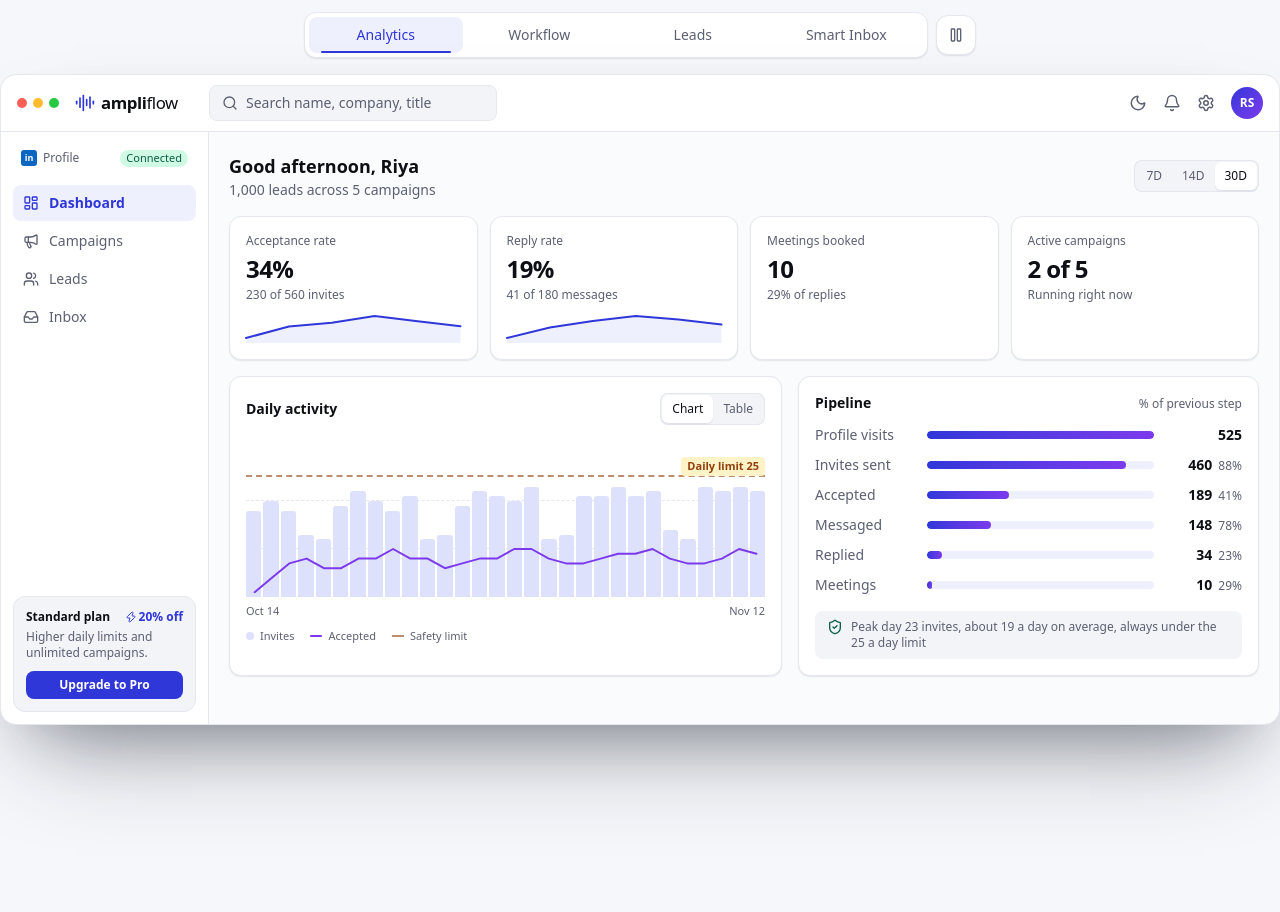
Test: ProductPreview › stops rotating as soon as someone picks a tab
Click the tab "Leads" at (693, 35), box [616,17,770,53]
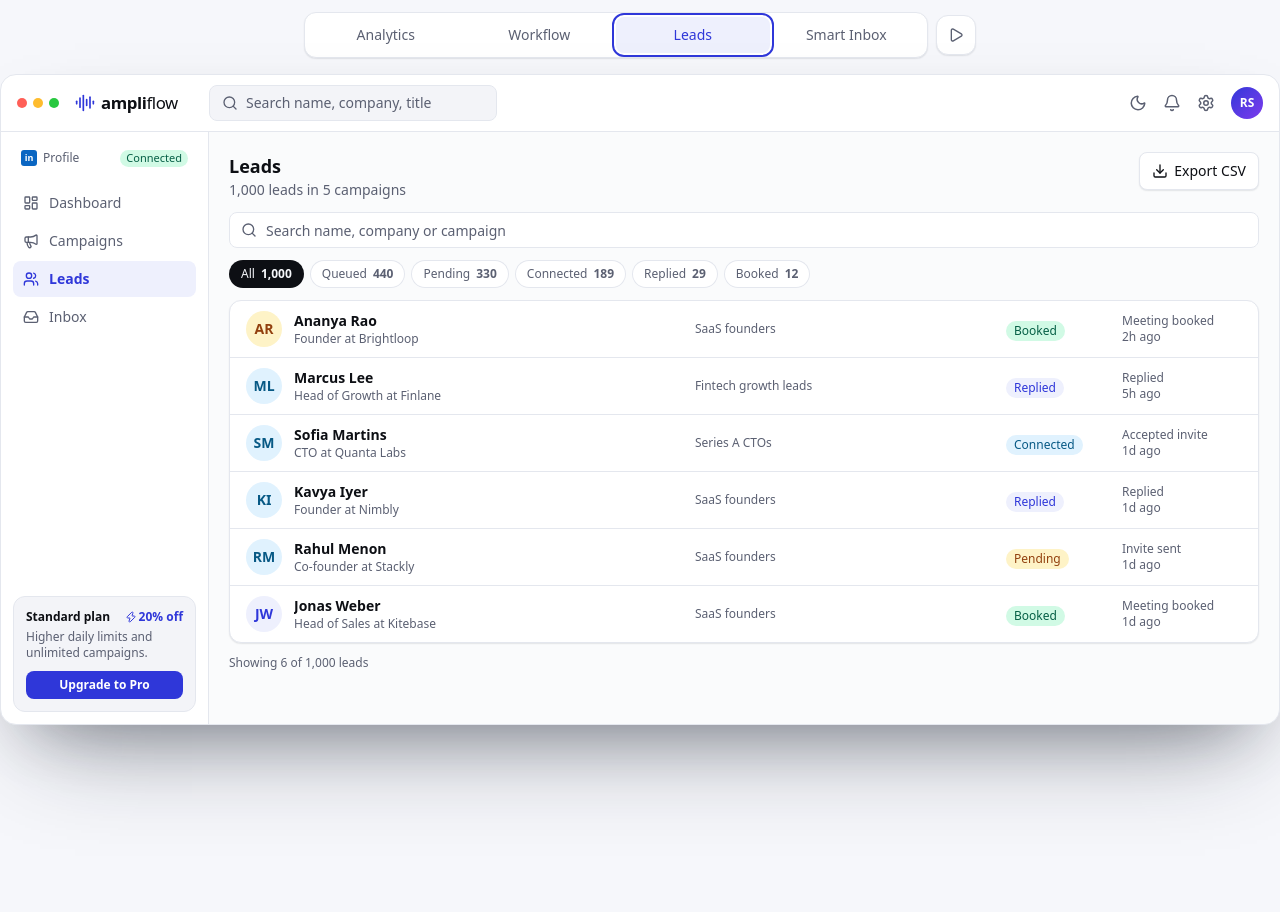
Check: the element with class "tab-progress" is gone
